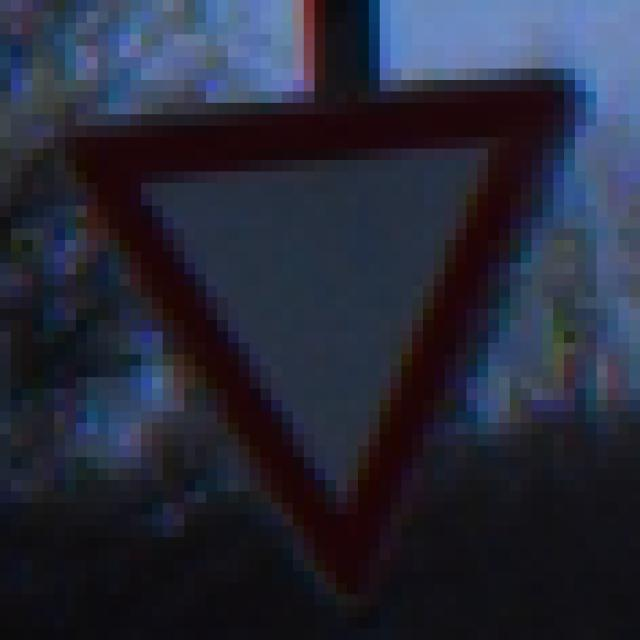Give Way: (55, 69, 587, 584)
